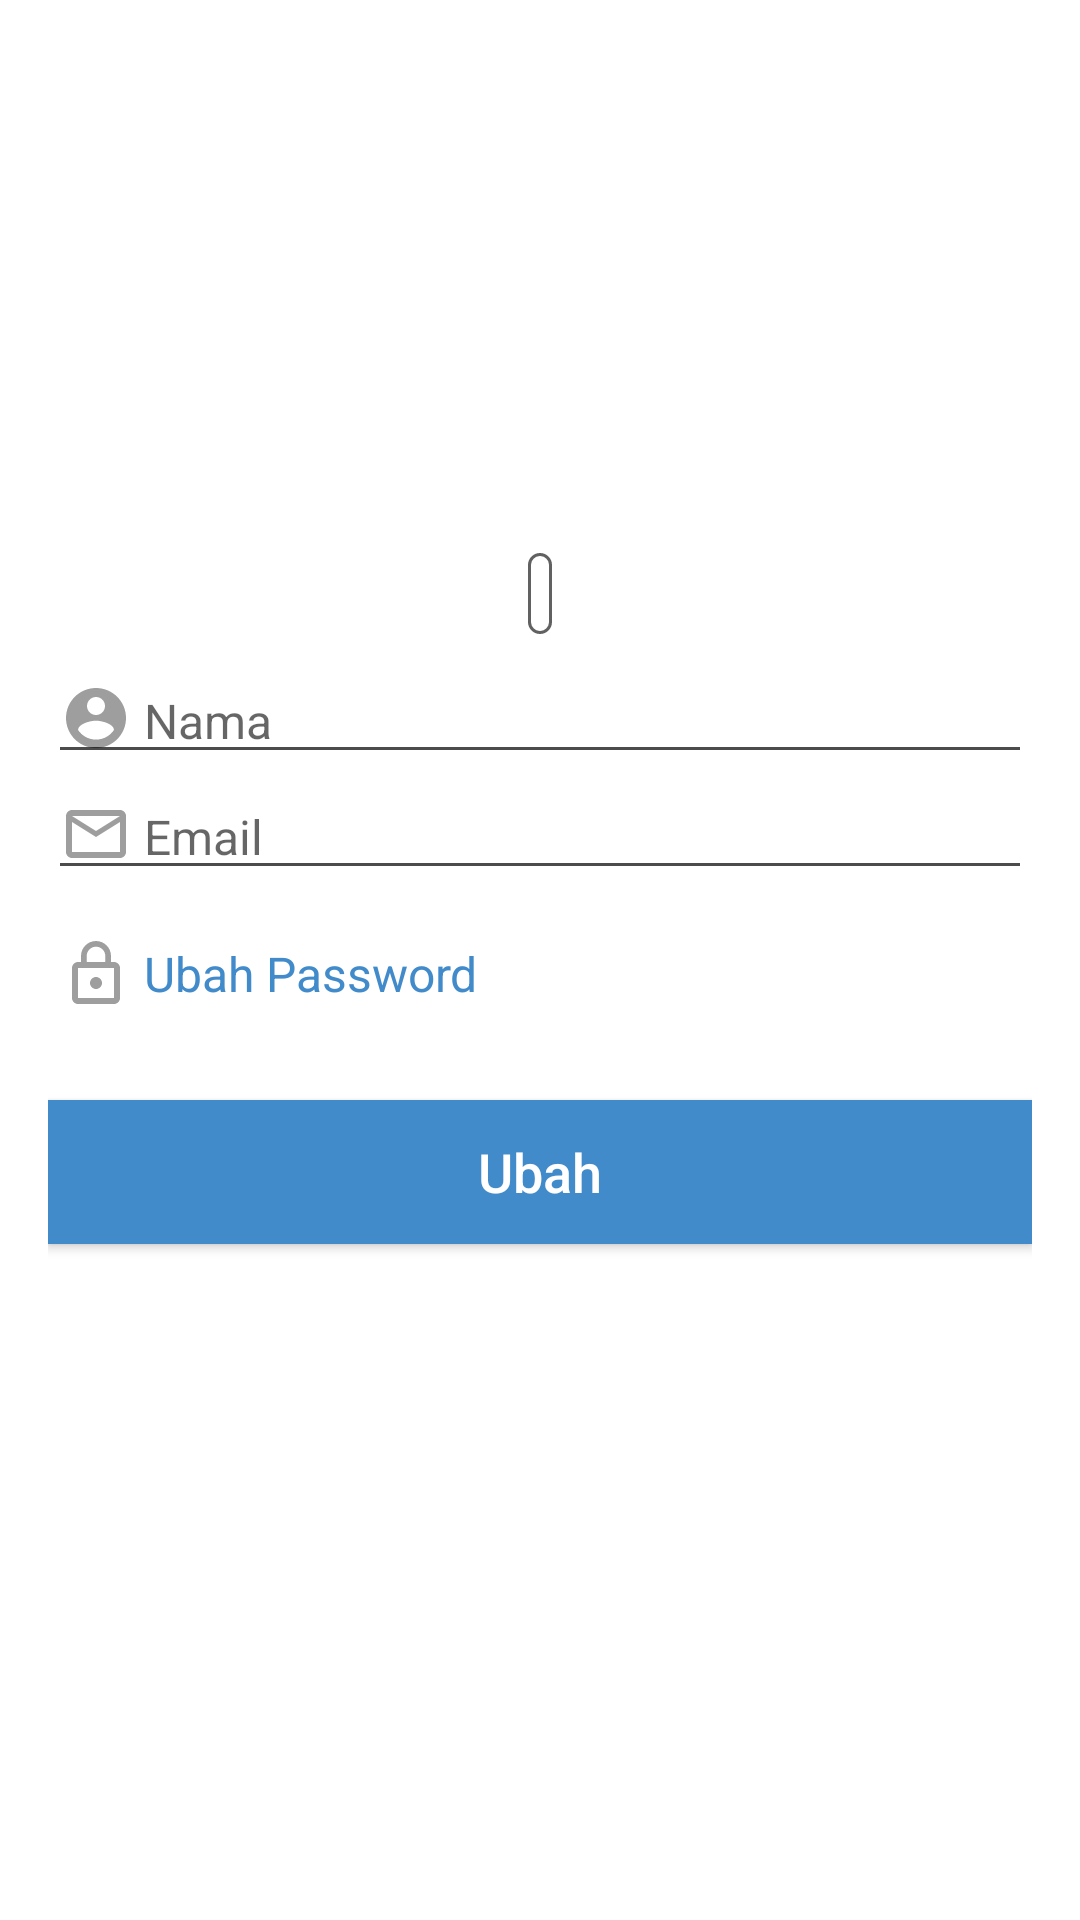

Where to tap for icons on this 1080 x 1920 app screen, as [x,y]:
account circle: [96,719]
lock: [96,972]
